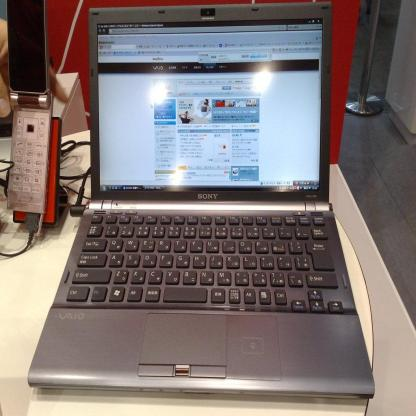board: (26, 0, 375, 392)
